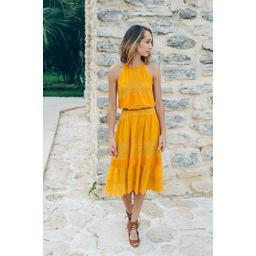dress: (104, 62, 164, 197)
